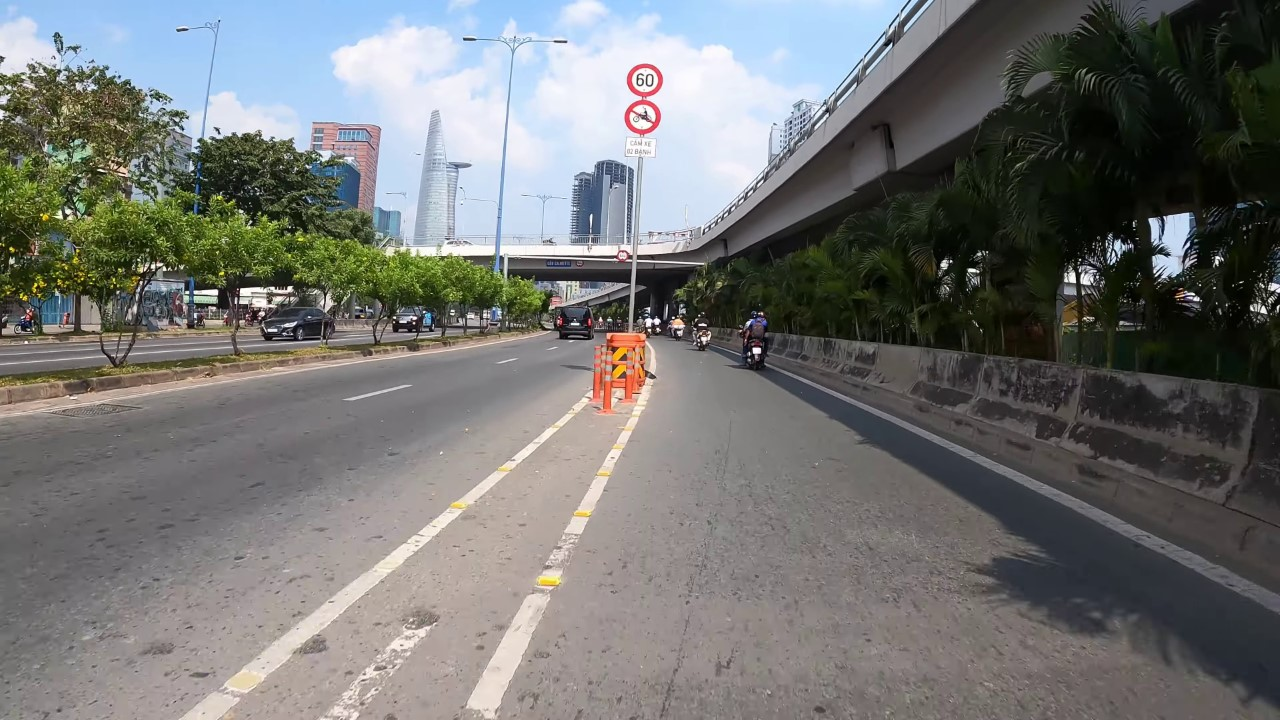gioi_han_60km: (625, 61, 666, 99)
